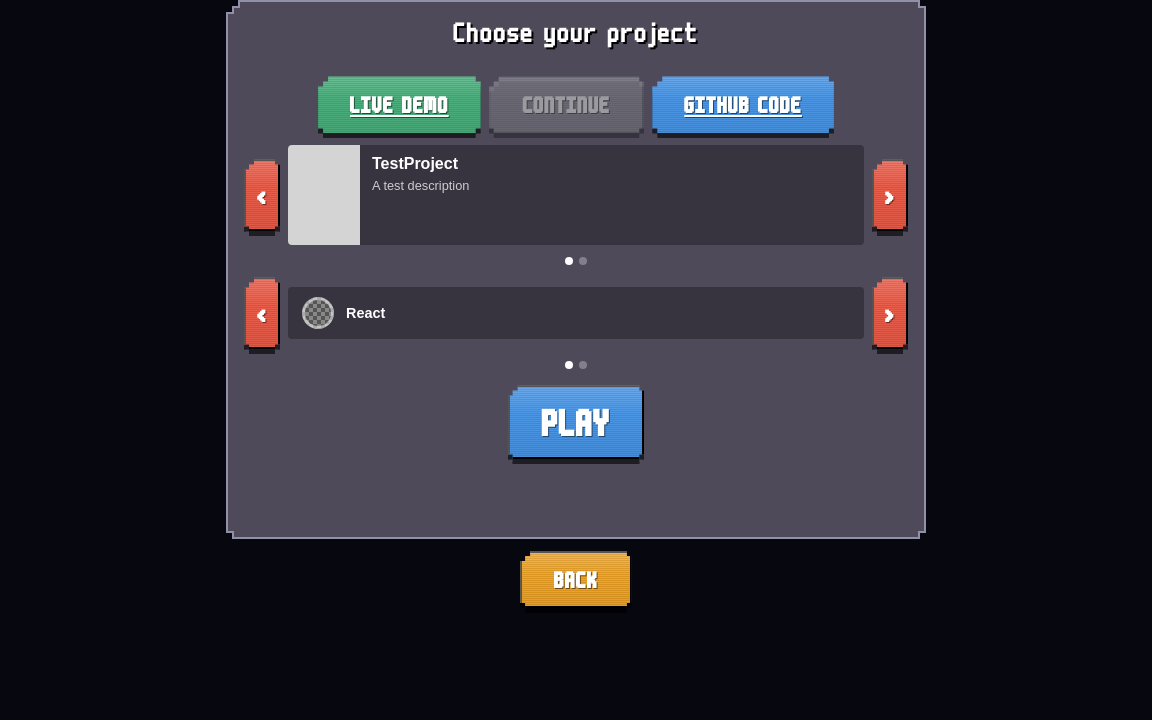
Test: PlayModal › next deck arrow cycles to second project
Click the button ">" in the row of "A test description": (890, 195) [872,159,908,231]
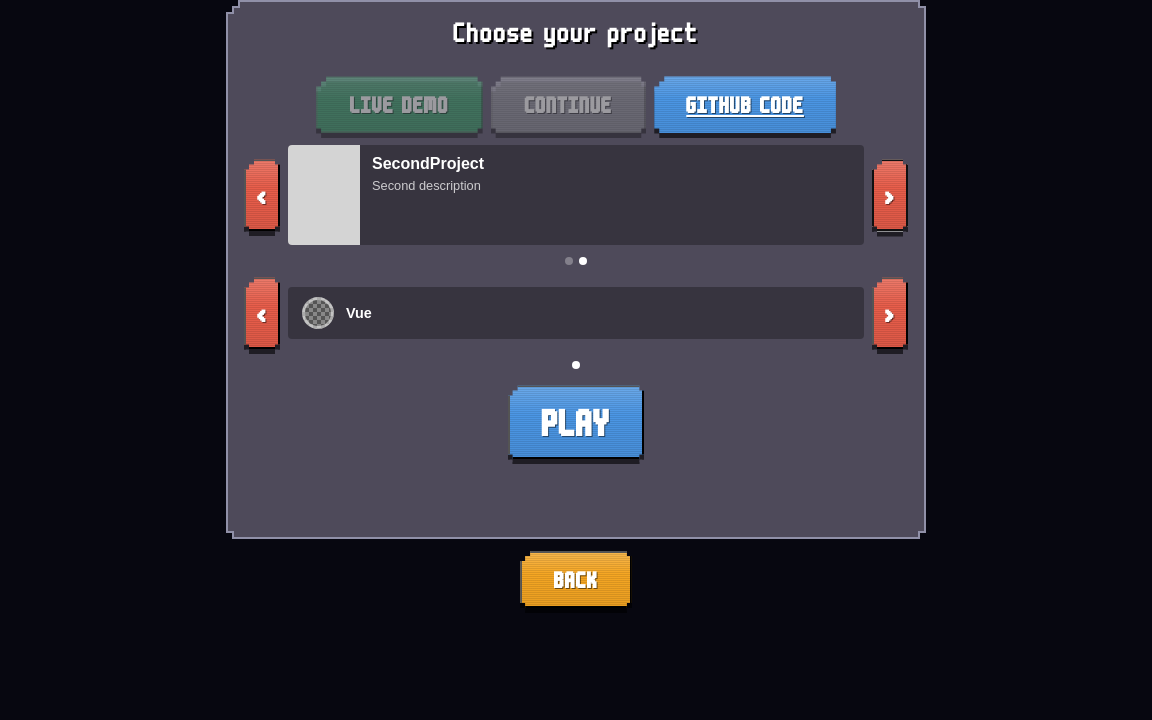
Expected: the text "SecondProject" is shown, [372,155,484,173]
